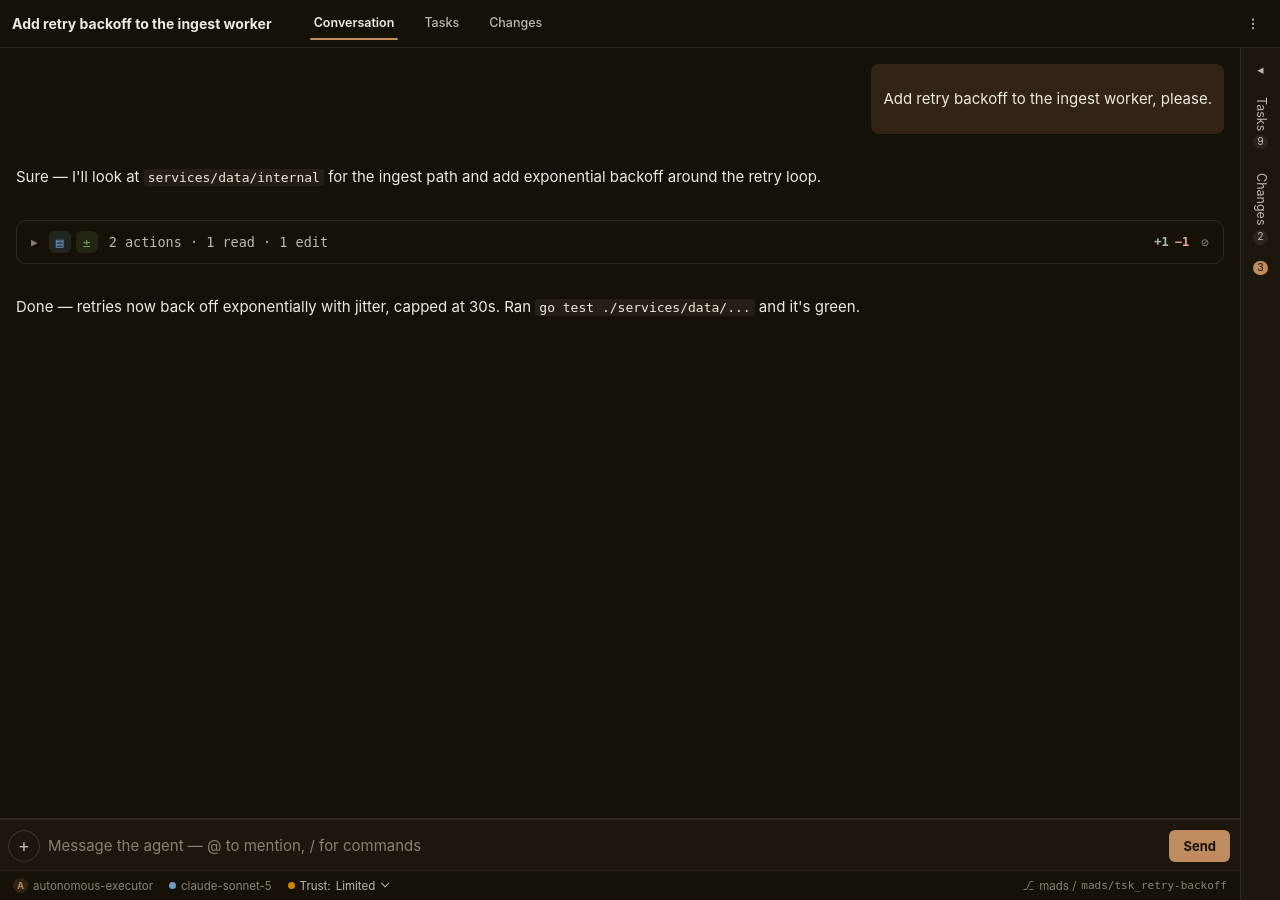
Test: SessionWorkspace › renames the session from the header via renameSession
Click the button titled "Rename session". click: (142, 24)
box: [8,14,276,32]
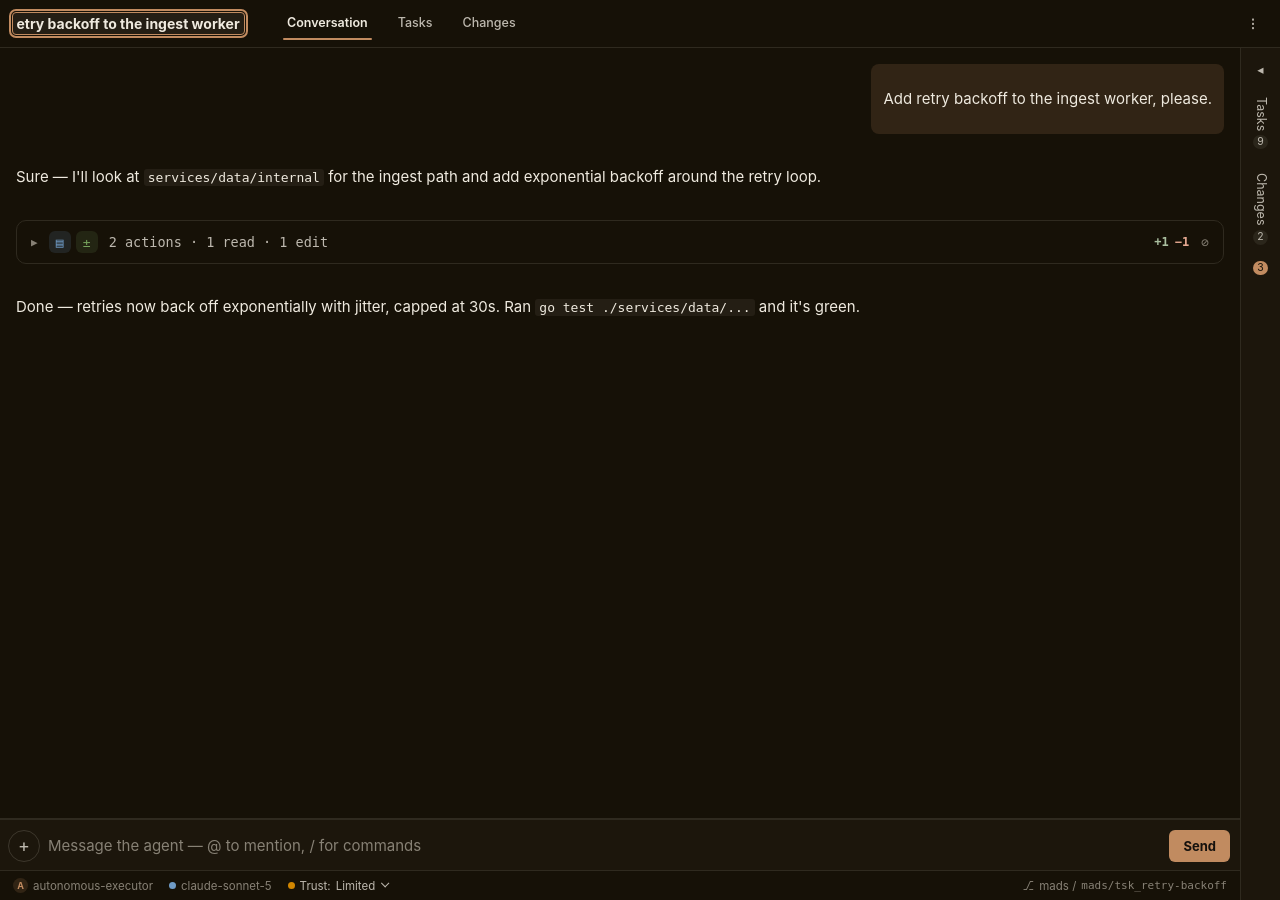
Replace the text in the field named "Session name" with "Renamed via header". click: (128, 24)
box: [12,12,245,35]
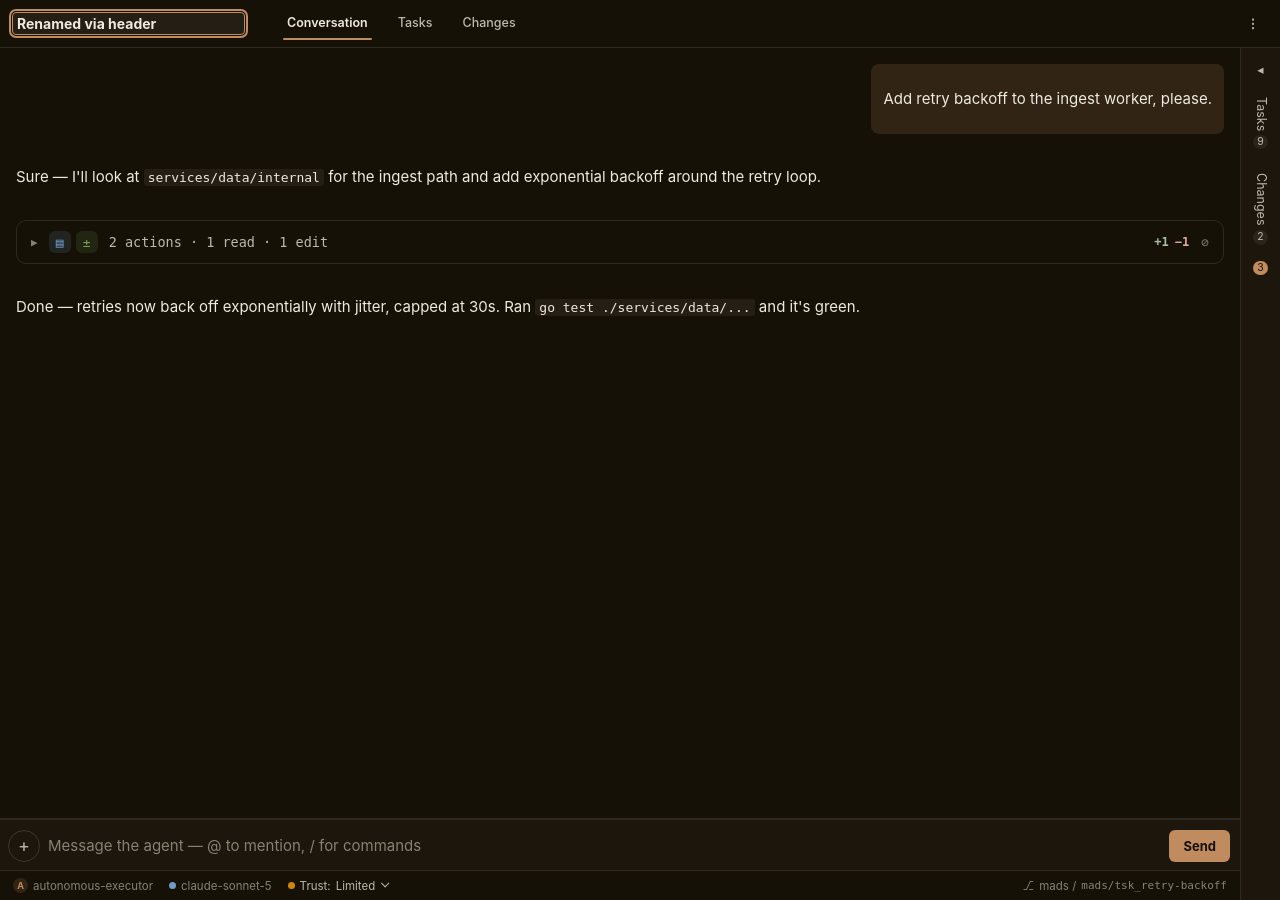
Press Enter in the field named "Session name", box [12,12,245,35]
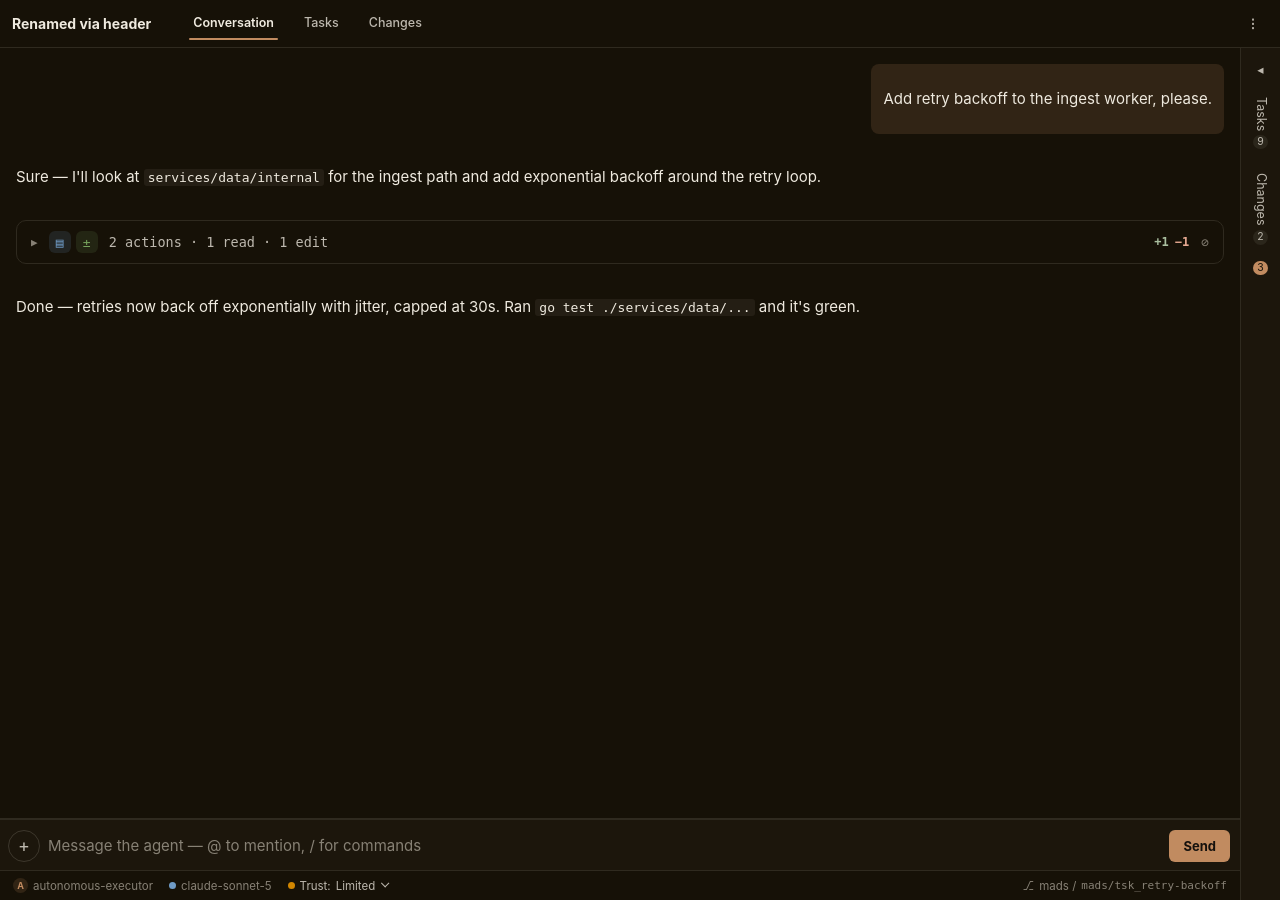
Check: the button titled "Rename session" reads "Renamed via header", box [8,14,155,32]
